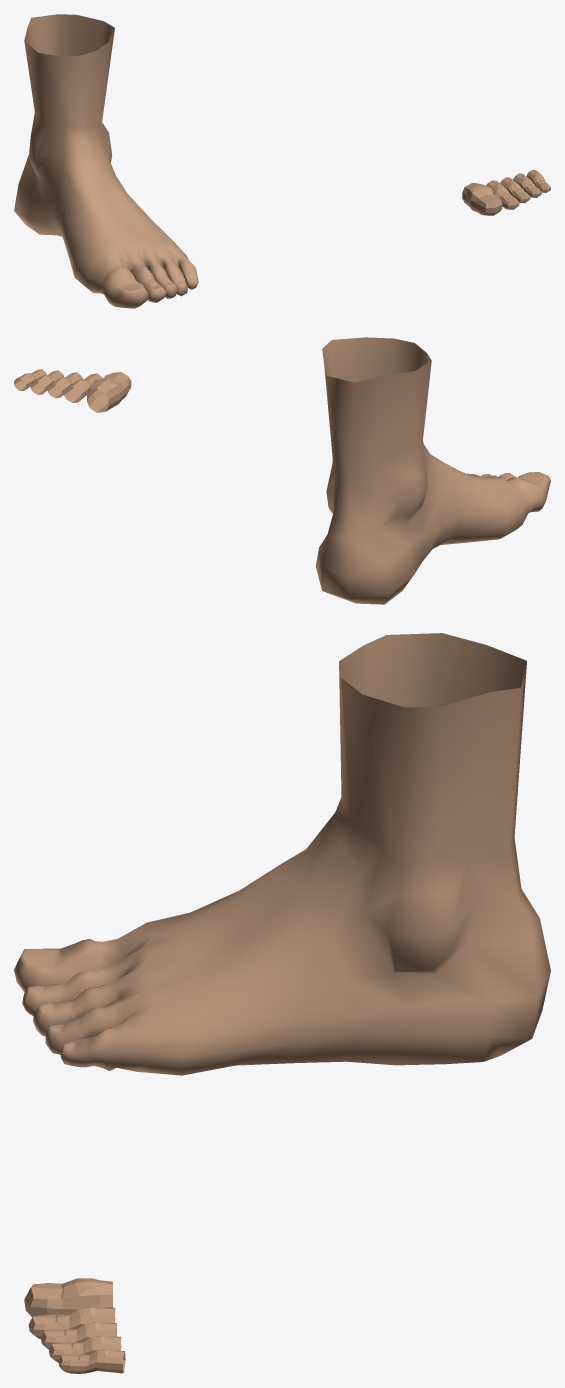
The model's file is Human Foot in Blender.glb.
3 renders of one model, top to bottom at view 1: azimuth 30°, elevation 25°; view 2: azimuth 150°, elevation 25°; view 3: azimuth 270°, elevation 25°, orthographic. The views are drawn at different scales.
Parts seen in each view (by area): view 1: Cube, Finger.001; view 2: Cube, Finger.001; view 3: Cube, Finger.001.
Part boxes in pixels (x1=…): Cube: x1=14, y1=14, x2=198, y2=308; Finger.001: x1=462, y1=169, x2=550, y2=215; Cube: x1=316, y1=337, x2=550, y2=604; Finger.001: x1=14, y1=369, x2=131, y2=412; Cube: x1=14, y1=633, x2=550, y2=1075; Finger.001: x1=24, y1=1278, x2=125, y2=1373.
Bounding box in the file's own units: 1.74 × 0.746 × 0.9583.
